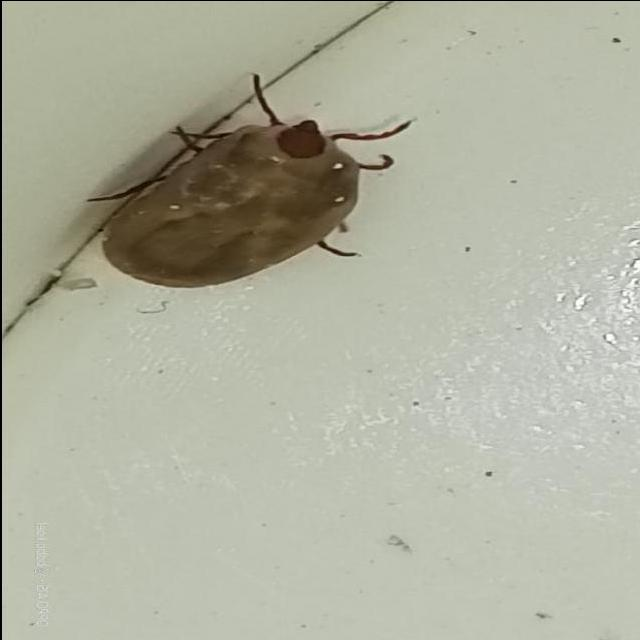Rhipicephalus Sanguineus-F-Fed: (84, 72, 412, 288)
